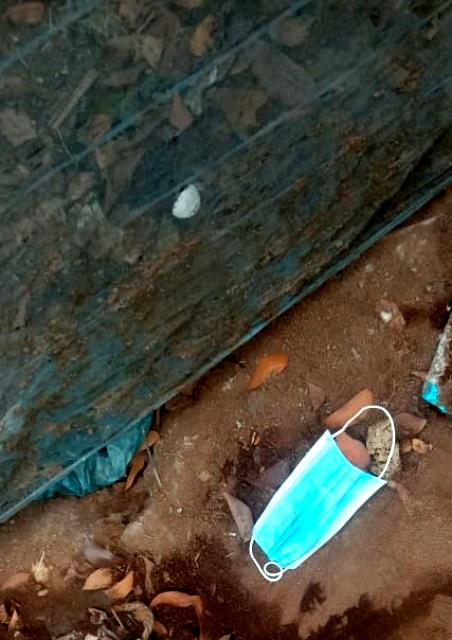mask: (212, 383, 424, 593)
